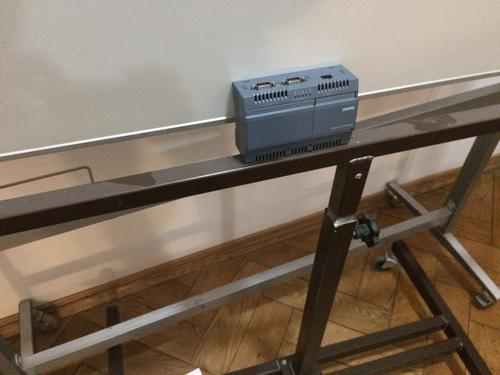iot2000: (231, 64, 359, 164)
